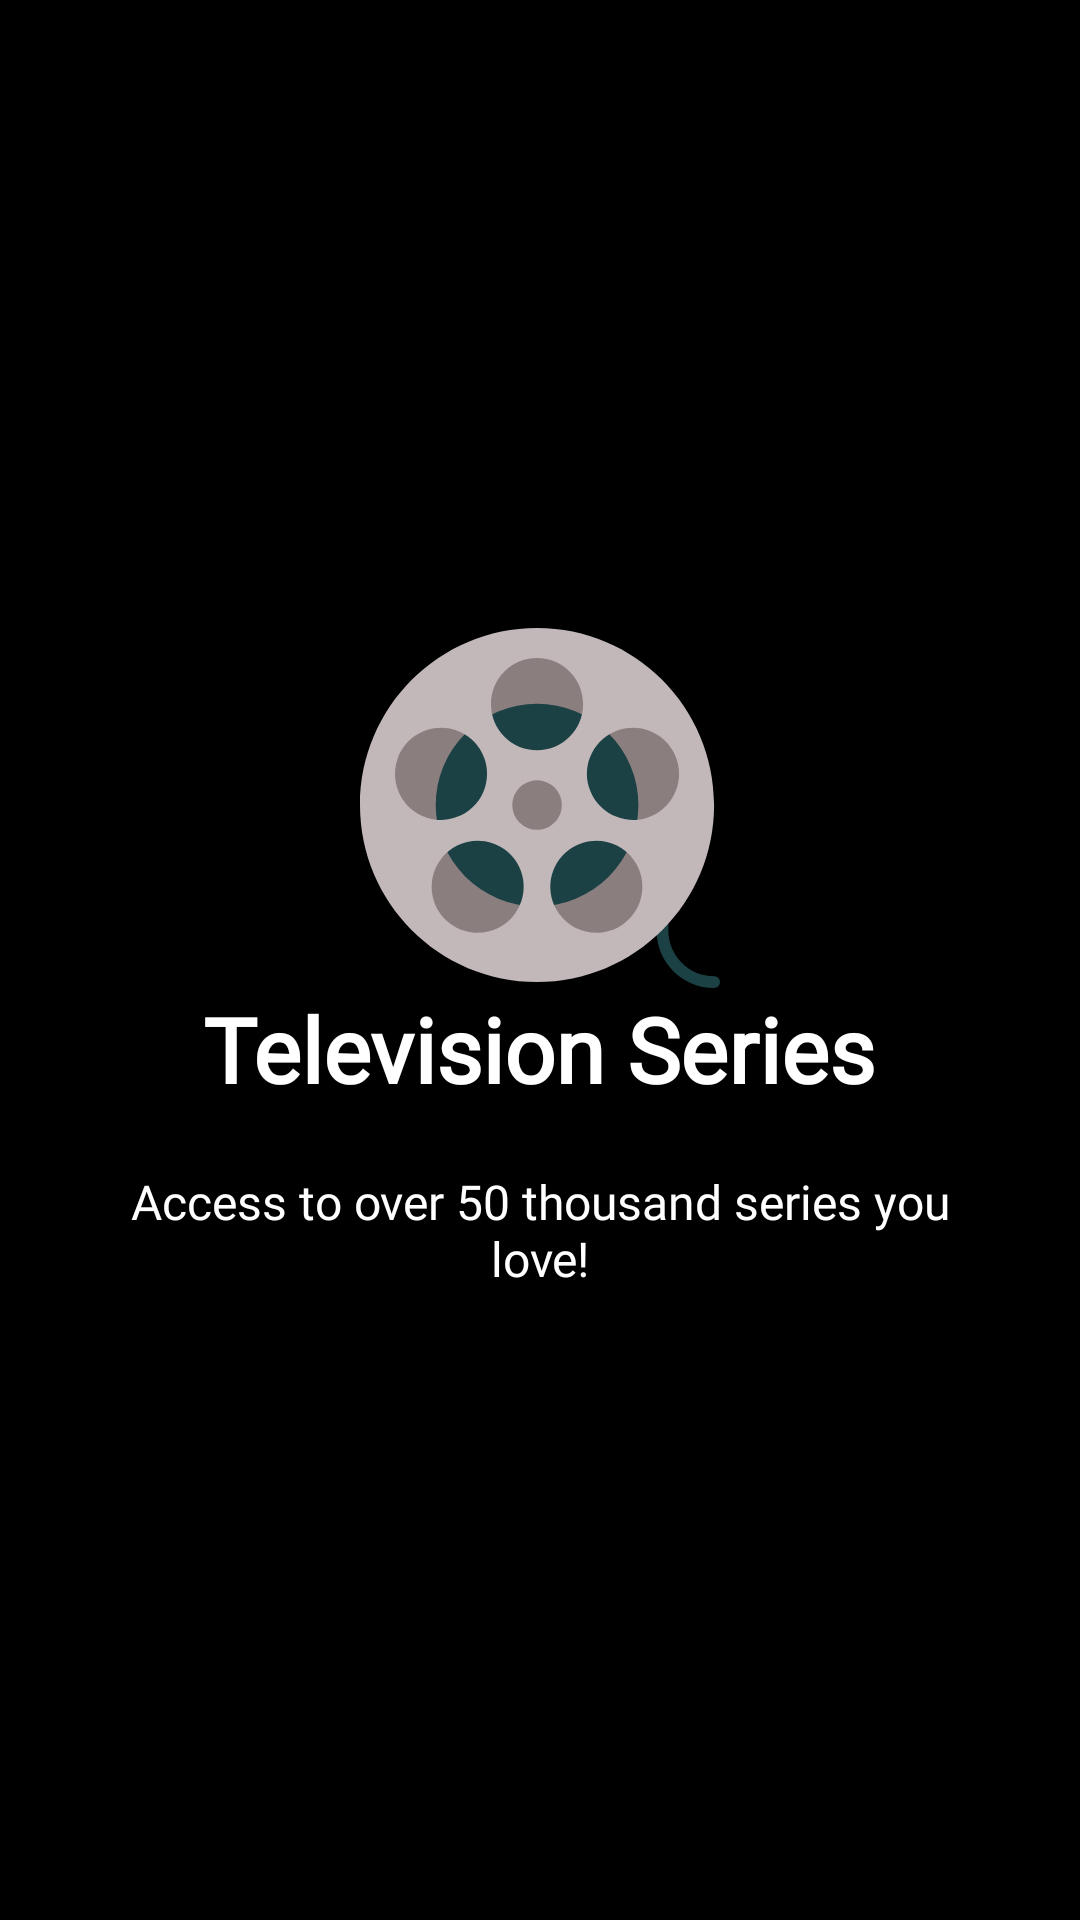

Icon click points for this 1080*1920 phone screenshot, format [x,y]:
film reel: [540,808]
